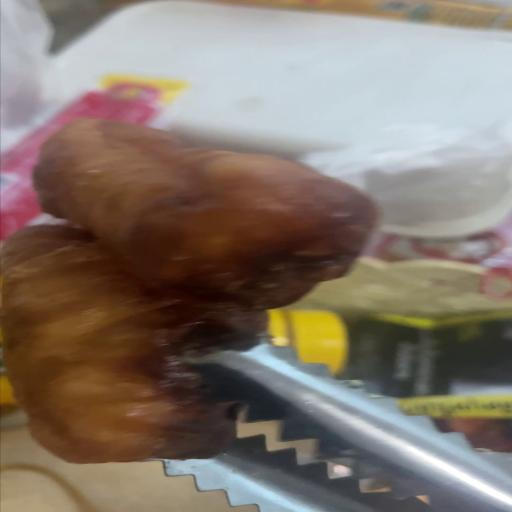street_burnt_defect: (0, 118, 377, 463)
